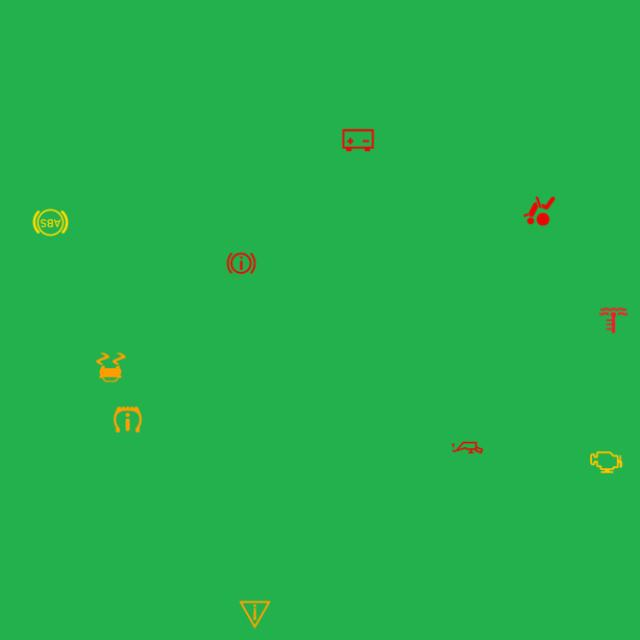Anti Lock Braking System: (31, 203, 70, 242)
Braking System Issue: (222, 244, 261, 282)
Charging System Issue: (339, 121, 377, 159)
Check Engine: (587, 443, 625, 482)
Electronic Stability Problem -ESP-: (92, 348, 130, 387)
Engine Overheating Warning Light: (594, 301, 633, 340)
Low Engine Oil Warning Light: (448, 428, 487, 467)
Low Tire Pressure Warning Light: (108, 400, 147, 439)
Master warning light: (236, 595, 274, 634)
SRS-Airbag: (520, 192, 559, 230)
